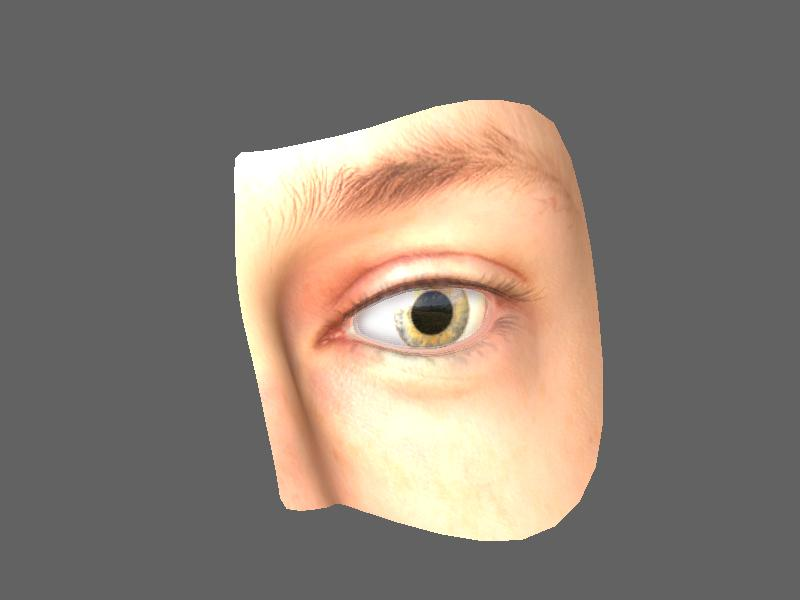iris: (386, 286, 476, 348)
